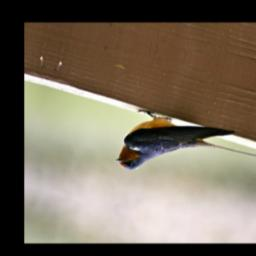Swallow: (113, 102, 256, 204)
